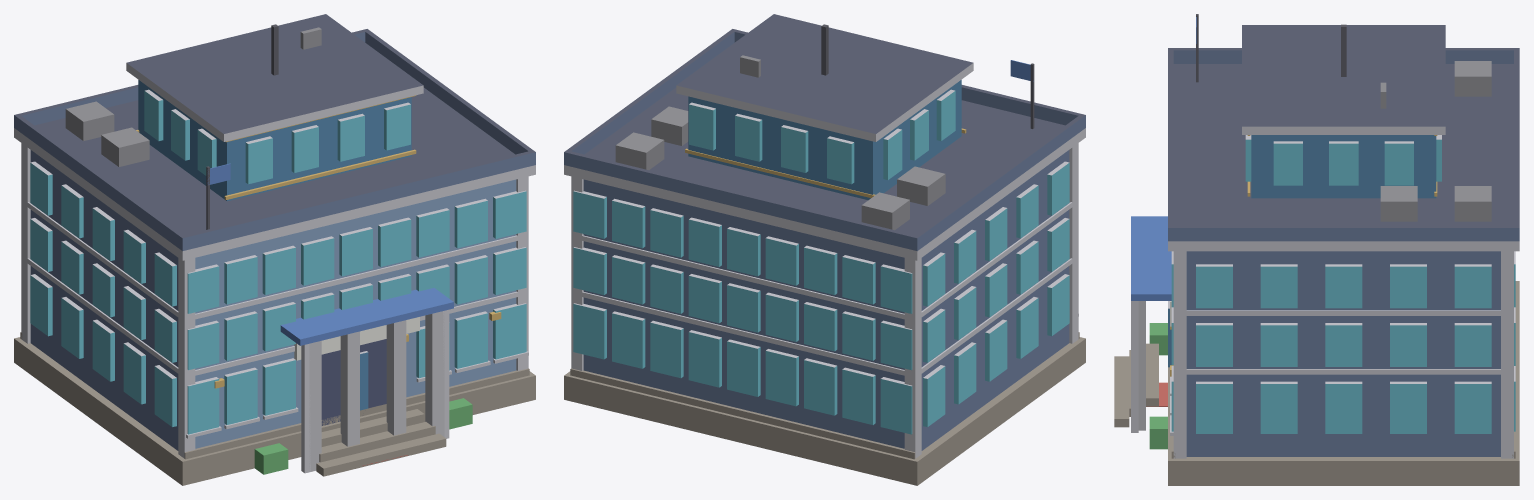
The model's file is Company.fbx.
3 views of the same model, side by side, from view 1: azimuth 30°, elevation 25°; view 2: azimuth 150°, elevation 25°; view 3: azimuth 270°, elevation 25° (orthographic). The views are drawn at different scales.
Visible parts, largest first — view 1: Company; view 2: Company; view 3: Company.
Boxes of the visible parts, x1,y1,x2,y2 form: Company: [14, 14, 535, 485]; Company: [564, 14, 1085, 485]; Company: [1114, 14, 1519, 485].
Size of the model in its own units: 2300 by 2210 by 2190.
